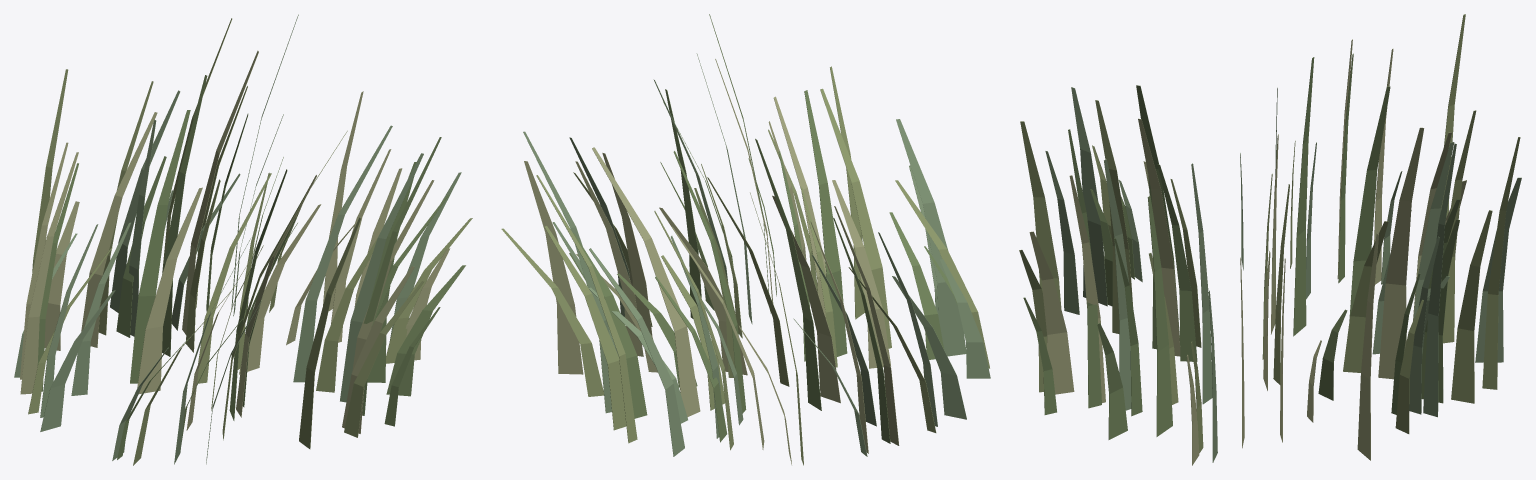
The picture shows the model from 3 angles, left to right: view 1: azimuth 30°, elevation 25°; view 2: azimuth 150°, elevation 25°; view 3: azimuth 270°, elevation 25°; orthographic projection. The views are drawn at different scales.
Parts seen in each view (by area): view 1: Coast_grass; view 2: Coast_grass; view 3: Coast_grass.
Part boxes in pixels (left/top/right/bottom): Coast_grass: left=14, top=14, right=472, bottom=465; Coast_grass: left=501, top=14, right=990, bottom=465; Coast_grass: left=1019, top=14, right=1521, bottom=465.
Size of the model in its own units: 1.48 by 0.9255 by 1.33.
